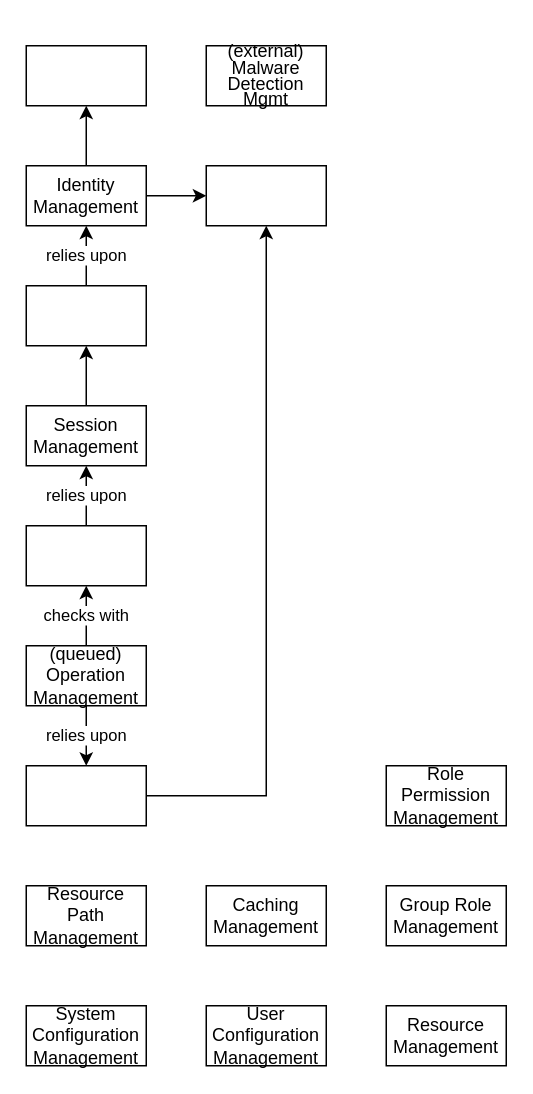
The diagram is 533 pixels wide and 1094 high, and some of its shapes have lost their labels. Here are the shapes that lost their labels. From the top down, the box of each, then its label:
(25, 44, 146, 106): (extrenal) Identity Providers
(205, 164, 326, 226): Data Storage Management
(25, 284, 146, 346): User Management
(25, 524, 146, 586): Authorisation Managment
(25, 764, 146, 826): Queue Management
